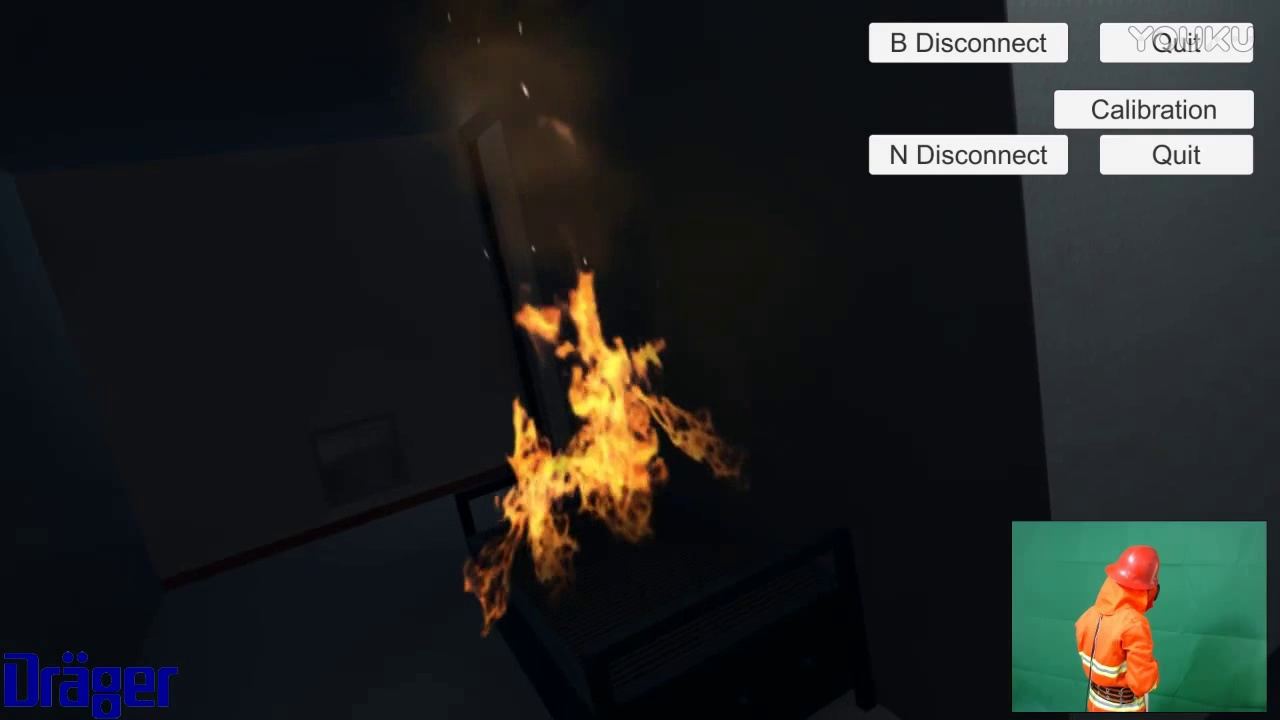fire: (447, 267, 763, 637)
